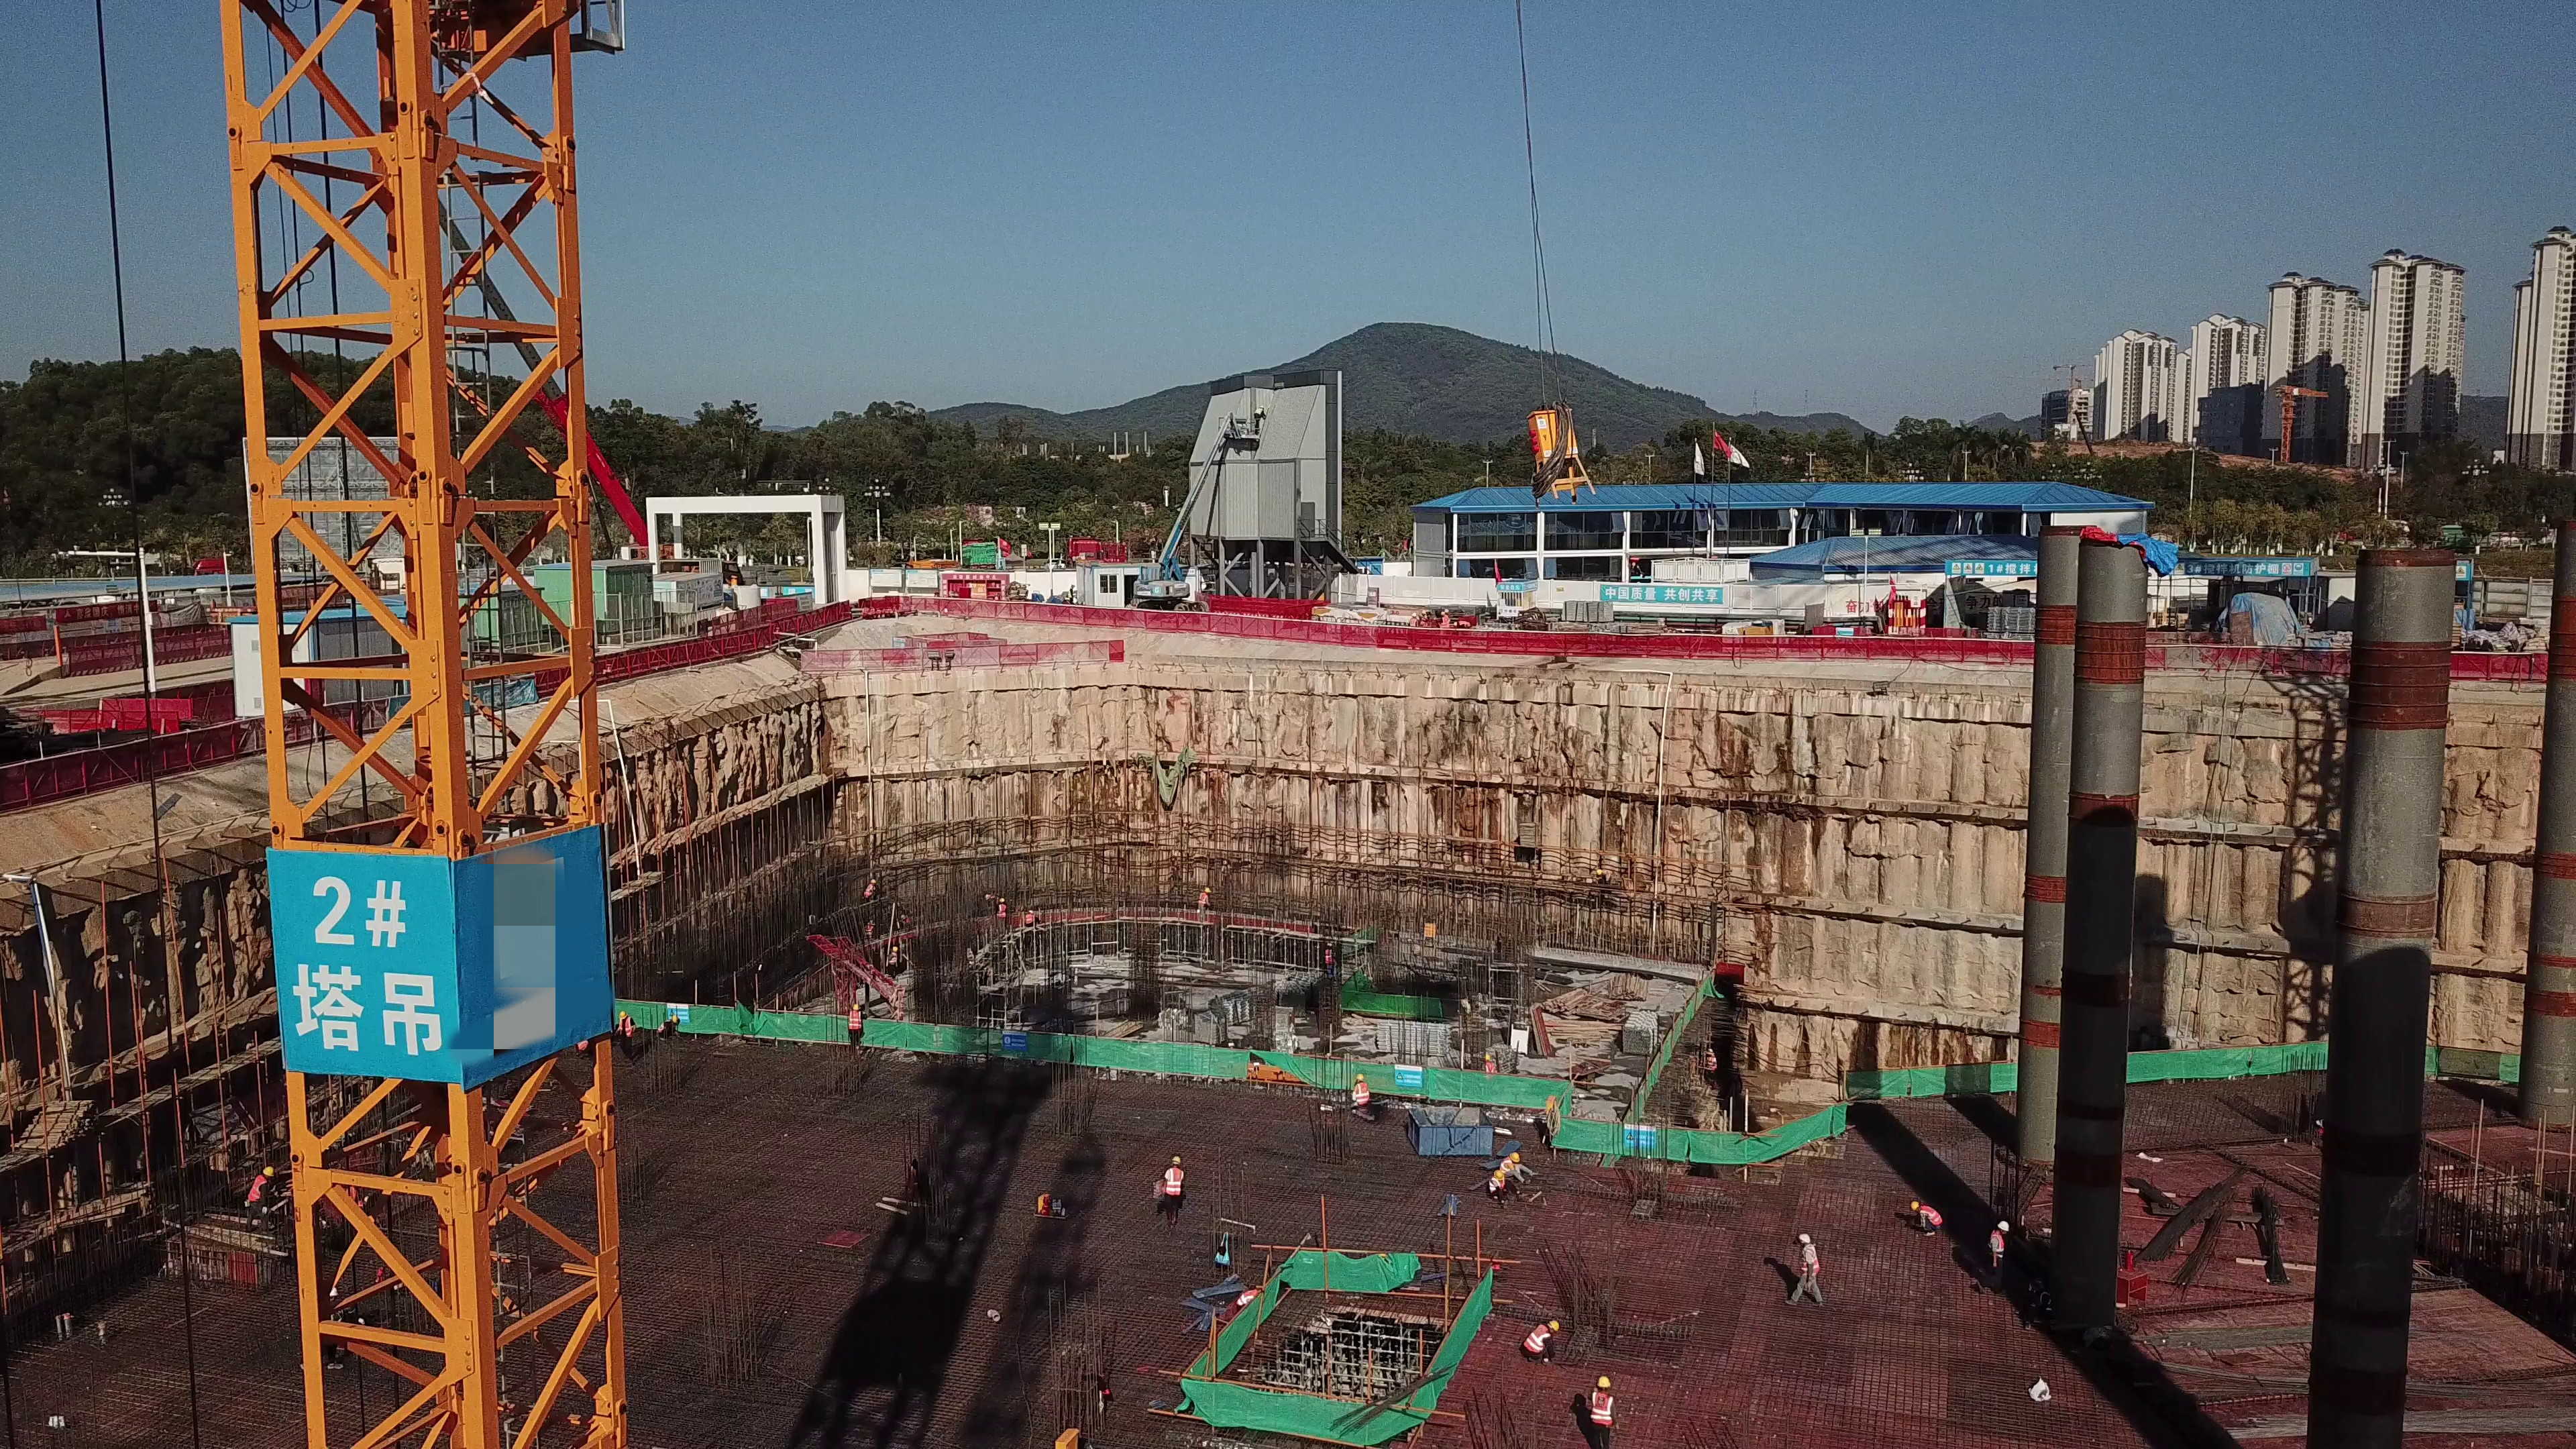brick: (1564, 593, 1618, 628)
ebox: (1516, 403, 1589, 502)
fence: (1516, 627, 2015, 675), (605, 625, 816, 667)
helmet: (2028, 1375, 2057, 1402), (1598, 1372, 1615, 1391), (261, 1167, 282, 1179), (1550, 1318, 1562, 1336), (1172, 1152, 1183, 1169), (1495, 1169, 1508, 1182), (671, 1015, 683, 1028), (1799, 1234, 1813, 1246), (1909, 1201, 1920, 1214), (1998, 1223, 2008, 1232), (1351, 1069, 1362, 1079), (998, 894, 1008, 904), (1510, 1149, 1523, 1159), (1481, 1052, 1491, 1060), (892, 944, 900, 950), (851, 1004, 861, 1011)
hopper: (1415, 1099, 1498, 1154)
person: (1782, 1224, 1830, 1311), (1581, 1370, 1625, 1449), (235, 1161, 284, 1225), (1155, 1147, 1190, 1232), (1513, 1313, 1564, 1371), (1978, 1216, 2012, 1289), (1344, 1070, 1379, 1120), (1907, 1199, 1947, 1241), (841, 1002, 867, 1059), (655, 1009, 686, 1043), (615, 1010, 639, 1058), (987, 894, 1011, 937), (1434, 602, 1457, 637), (1475, 1049, 1505, 1077), (1483, 1168, 1506, 1203), (1195, 886, 1214, 928), (1704, 1044, 1720, 1083), (1020, 908, 1046, 930), (1498, 1150, 1529, 1169), (858, 916, 877, 947), (856, 875, 879, 900), (885, 945, 901, 976), (896, 914, 918, 934), (1407, 612, 1420, 633)
scaffold: (1366, 1006, 1450, 1061), (1221, 983, 1300, 1036), (1623, 1017, 1674, 1070)
slogan: (272, 853, 450, 1079), (1597, 583, 1727, 607), (2171, 559, 2312, 580), (1946, 554, 2041, 583)
vest: (1525, 1322, 1548, 1356), (245, 1177, 266, 1210), (1989, 1230, 2008, 1261), (1803, 1246, 1819, 1283), (1591, 1393, 1608, 1427), (1168, 1167, 1183, 1201), (1921, 1207, 1944, 1226), (846, 1012, 864, 1036), (1352, 1085, 1370, 1104), (1490, 1181, 1505, 1197), (657, 1019, 670, 1036), (998, 904, 1008, 923), (1705, 1057, 1718, 1071), (863, 882, 878, 896), (863, 925, 875, 942), (1199, 894, 1210, 910), (1025, 915, 1034, 930)
wood: (1559, 966, 1624, 1039)
